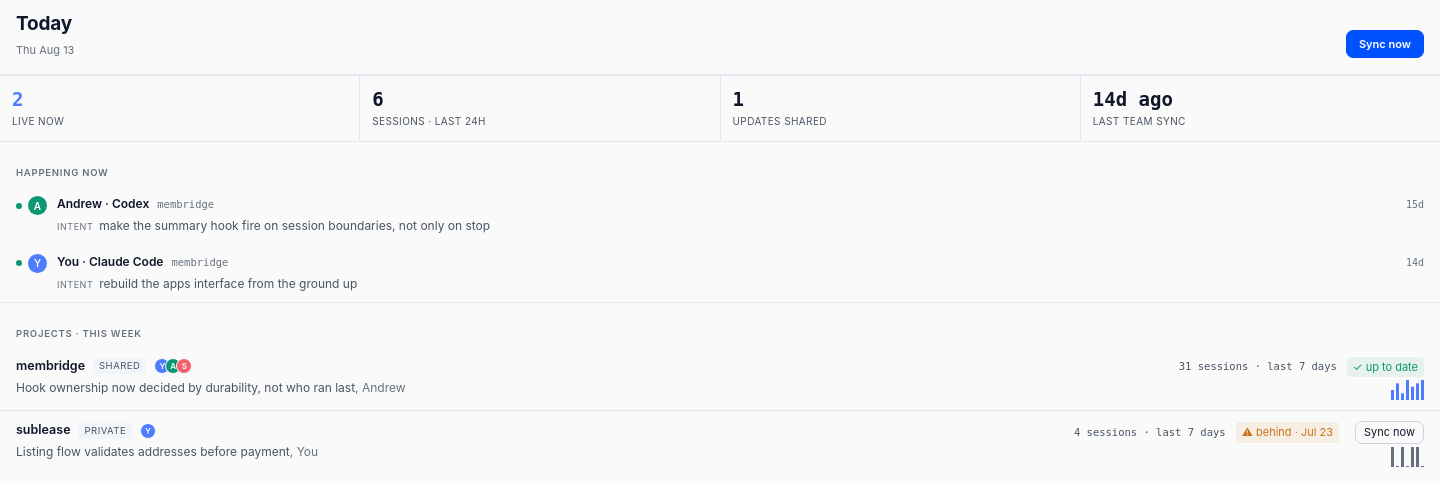
Test case: TodayPage › disables the header sync button and says Syncing… while the sync runs
The width and height of the screenshot is (1440, 484).
Click the button "Sync now" in the row of "Thu Aug 13".
click(1385, 44)  # box left=1346, top=30, right=1424, bottom=58
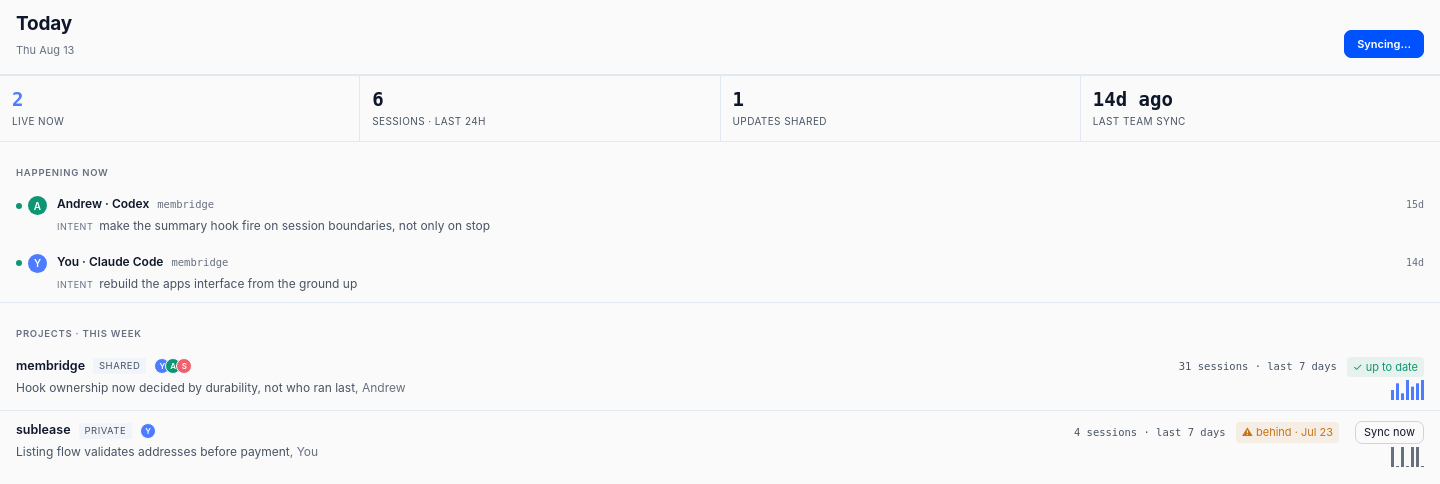
Expected: the button "Syncing…" is disabled, left=1344, top=30, right=1424, bottom=58
